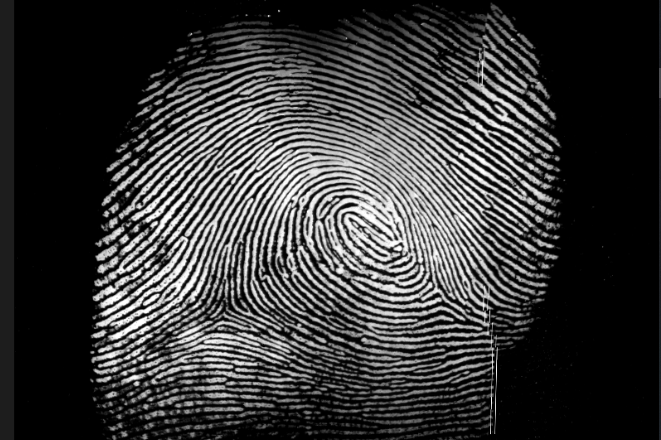deltas: (203, 277, 255, 332), (412, 265, 464, 316)
nucleo: (337, 201, 405, 256)
